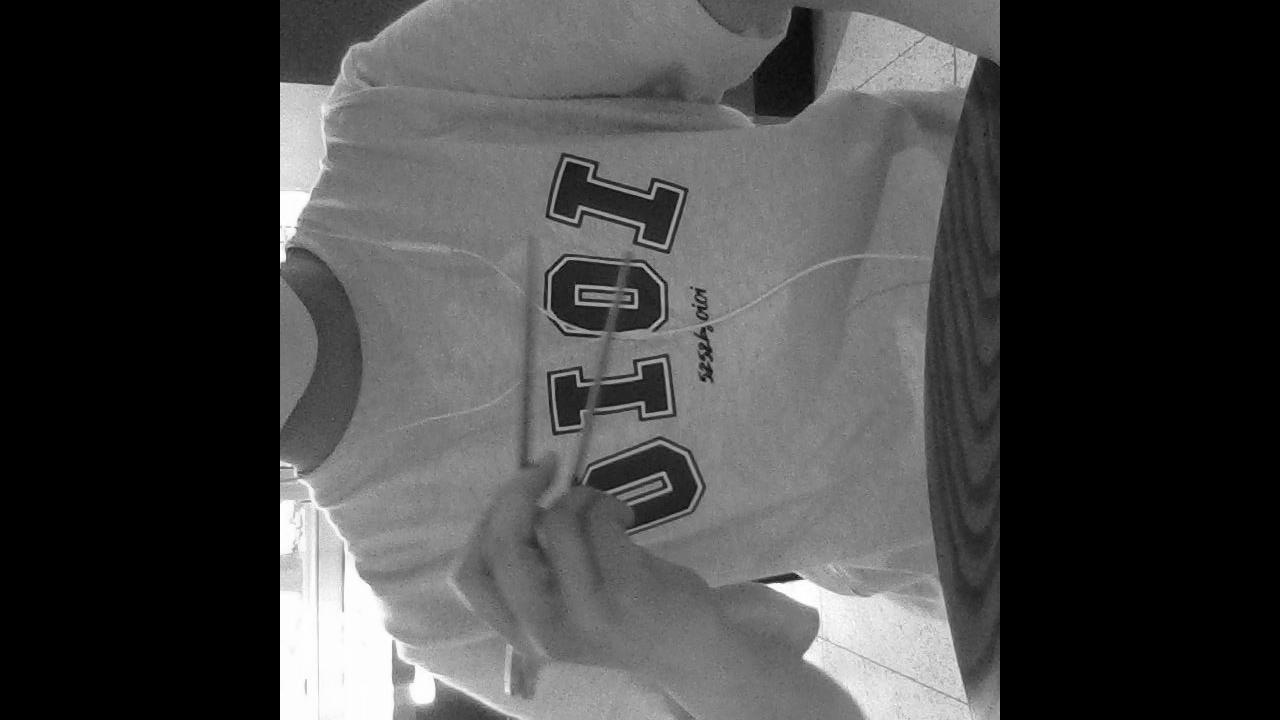chopstick: (519, 245, 635, 700), (504, 233, 540, 696)
hand: (453, 448, 703, 674)
